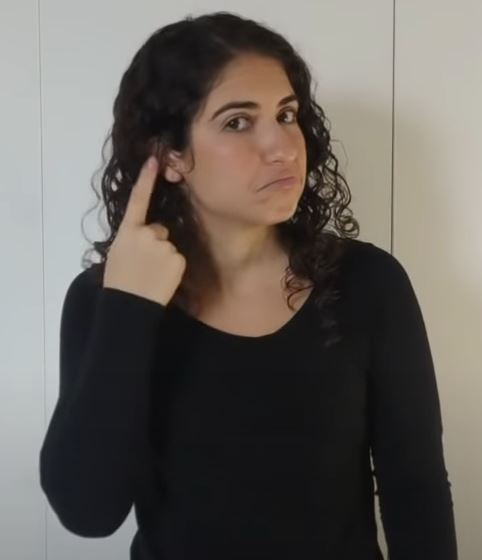ear: (103, 124, 212, 309)
